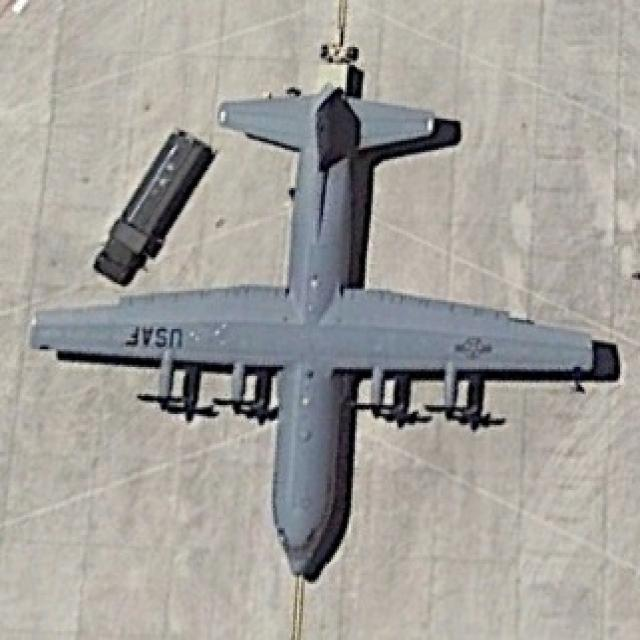C-130_TopDown: (25, 80, 620, 583)
